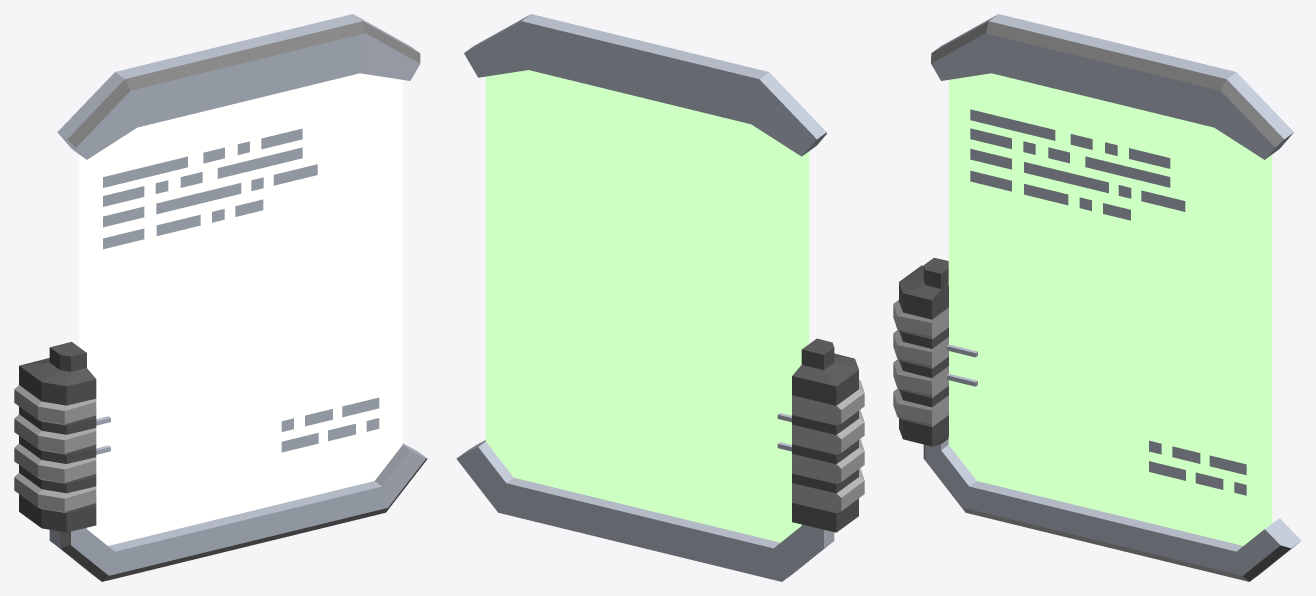
File: datapad.glb
3 views of the same model, side by side, from view 1: azimuth 30°, elevation 25°; view 2: azimuth 150°, elevation 25°; view 3: azimuth 330°, elevation 25° (orthographic).
Visible parts, largest first — view 1: Datapad; view 2: Datapad; view 3: Datapad.
Boxes of the visible parts, left/top/right/bottom form: Datapad: left=14, top=14, right=427, bottom=581; Datapad: left=456, top=14, right=864, bottom=581; Datapad: left=893, top=14, right=1301, bottom=581.
Bounding box in the file's own units: 0.2052 × 0.2472 × 0.0318.
2 materials, 1 textured.
